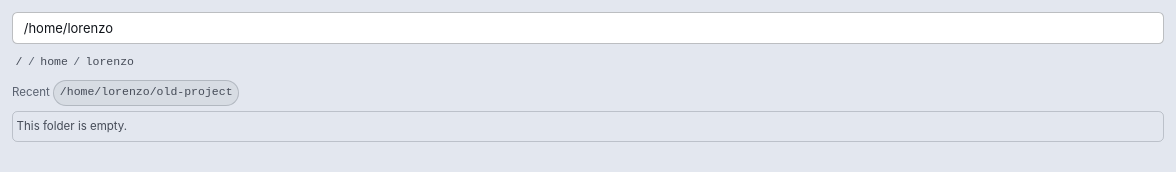
Test: DirectoryPicker (SPEC §7.25 directory picker; issue #474) › shows a previously recorded recent path and navigates to it on click
Click the button with test id "directory-picker-recent-path" at (146, 93), box [53,80,239,106]
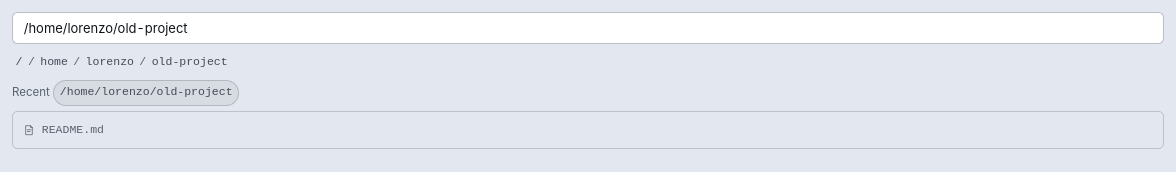
expect the text "README.md" is shown: met, box [42,120,104,141]
